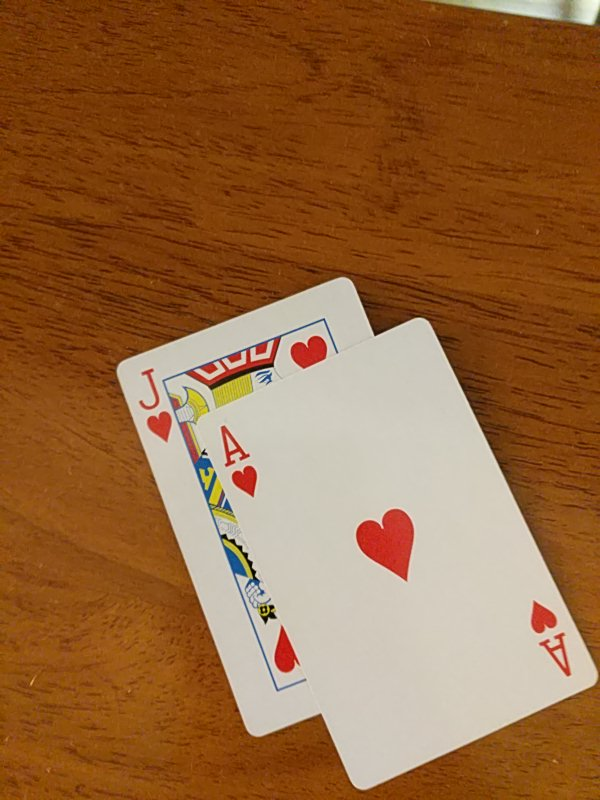Hearts: (195, 316, 600, 789), (117, 275, 374, 738)
